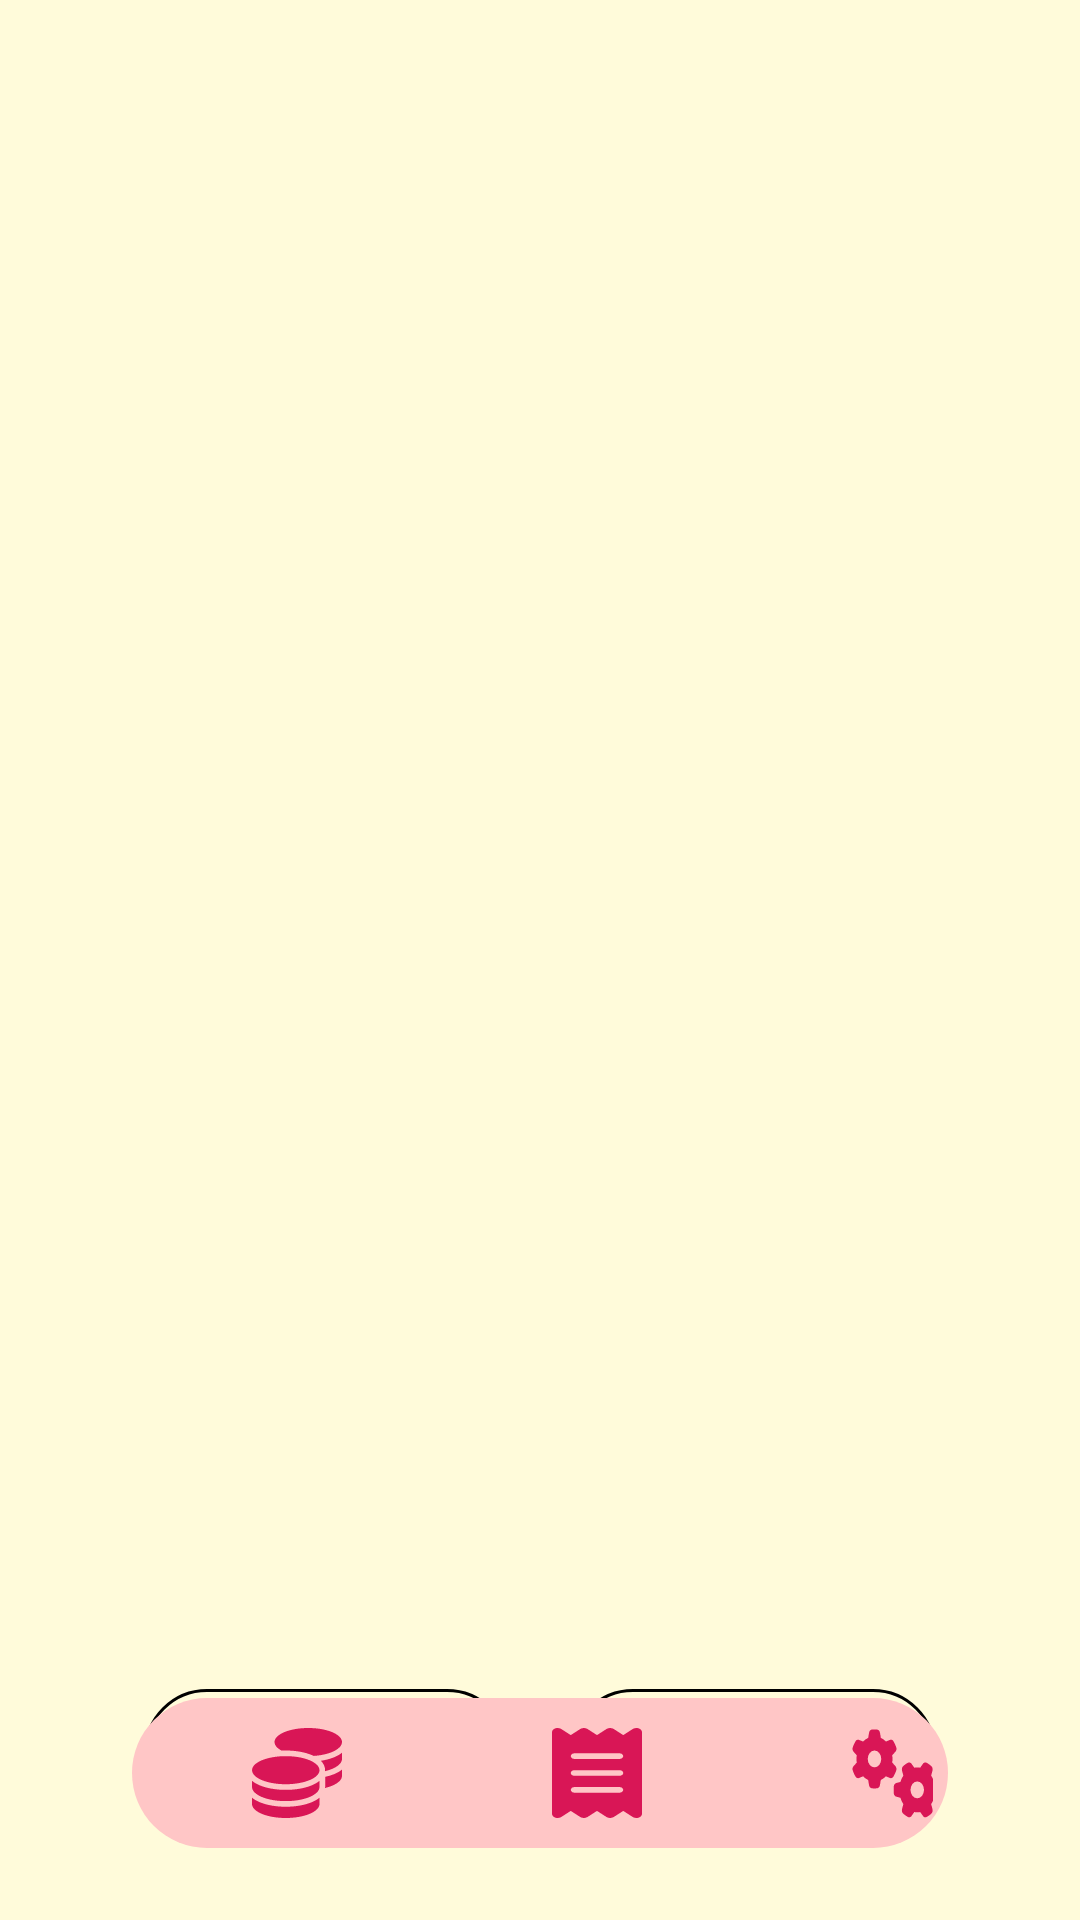

Screen size 1080px×1920px. Icon name, then its center in pixels as (x,y):
gears: (892,1773)
money: (297,1773)
recibo: (597,1773)
